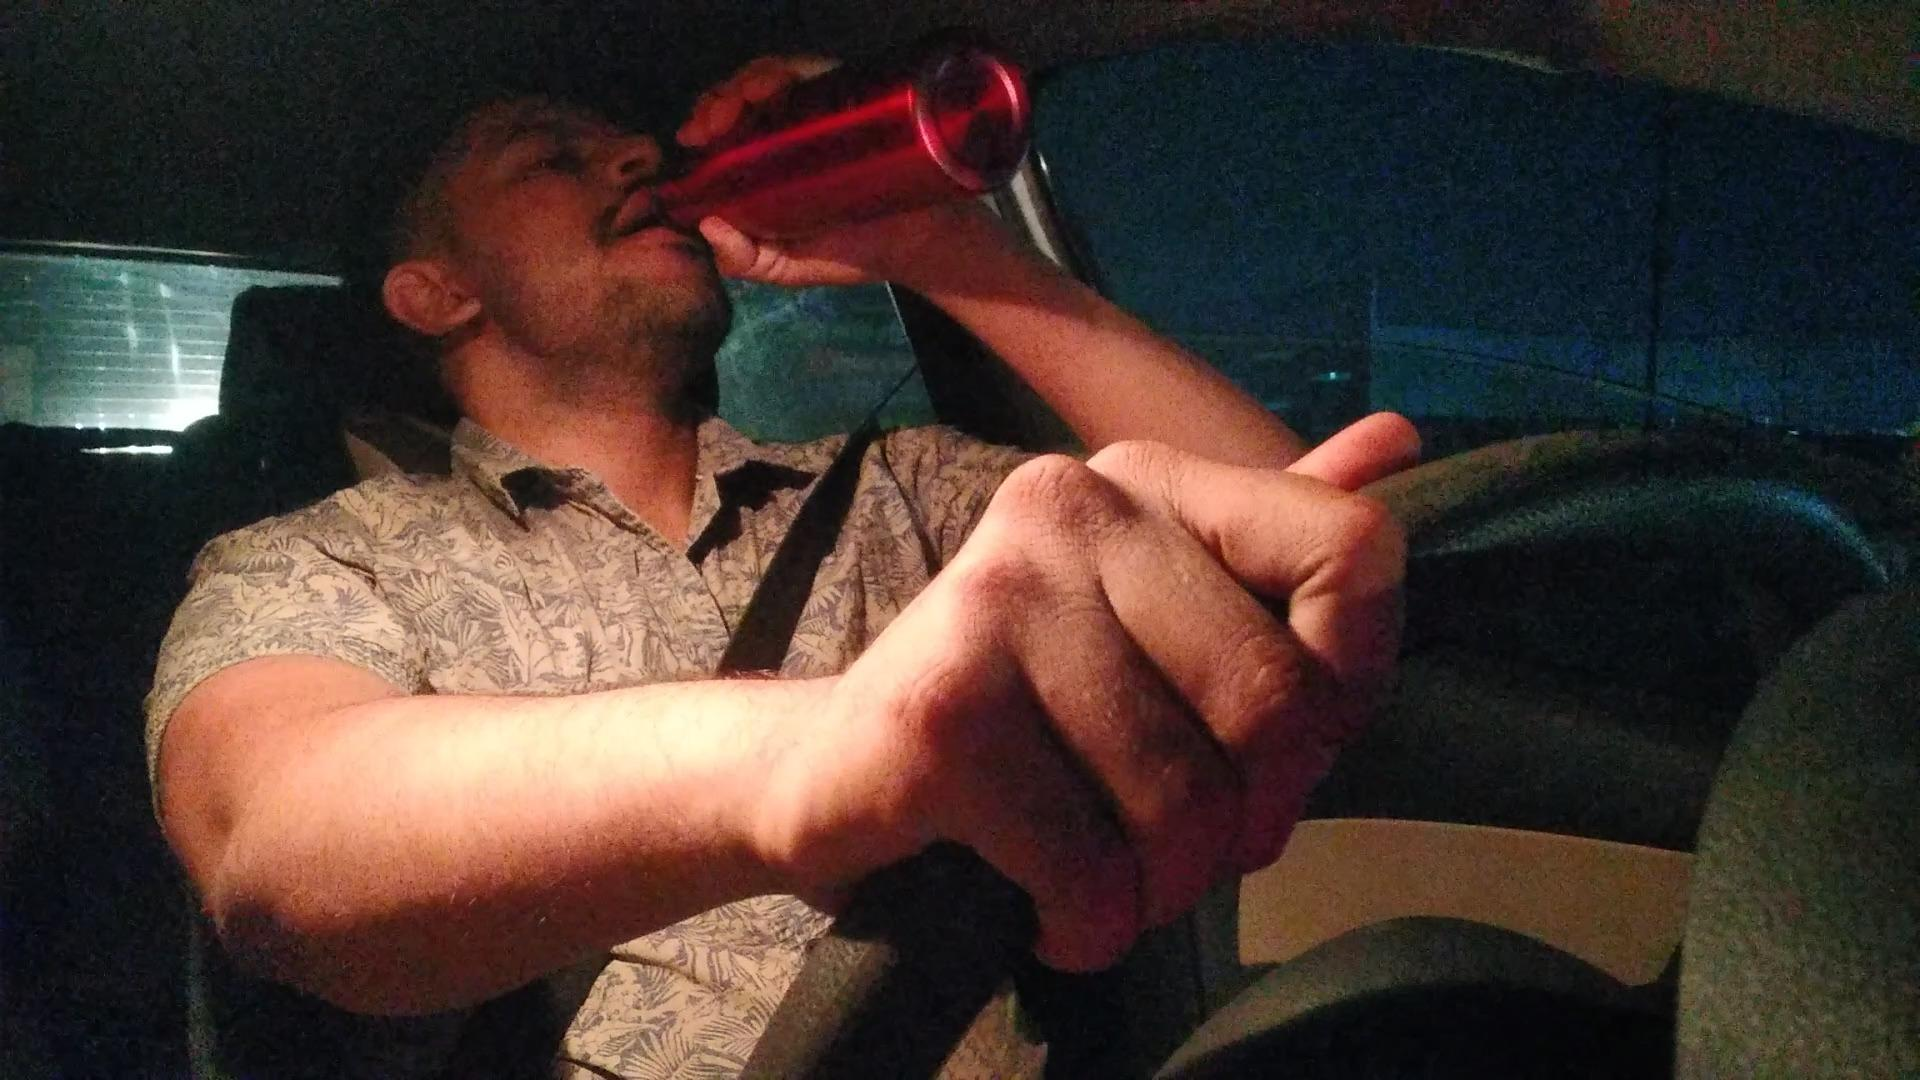Drinking: (665, 33, 1031, 265)
